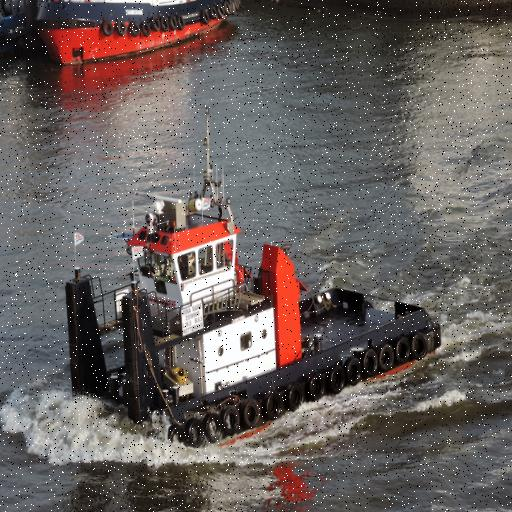tugboat: (61, 106, 446, 459)
